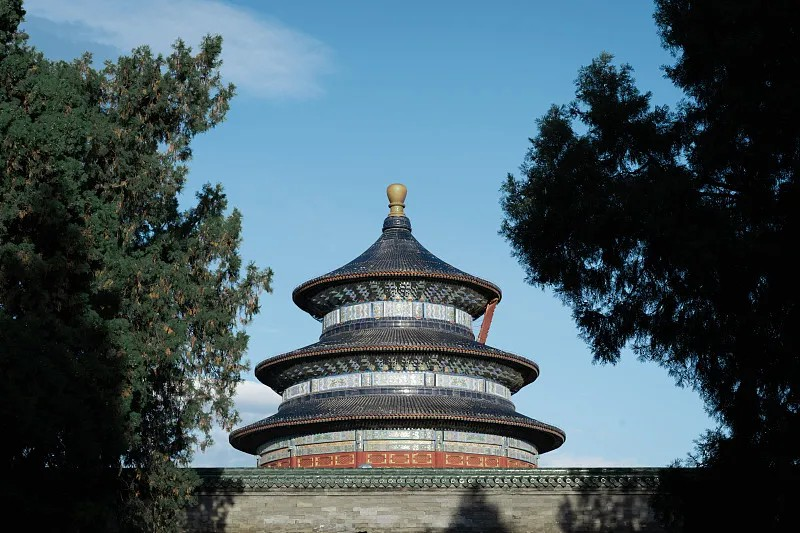Heaven: (227, 184, 567, 466)
